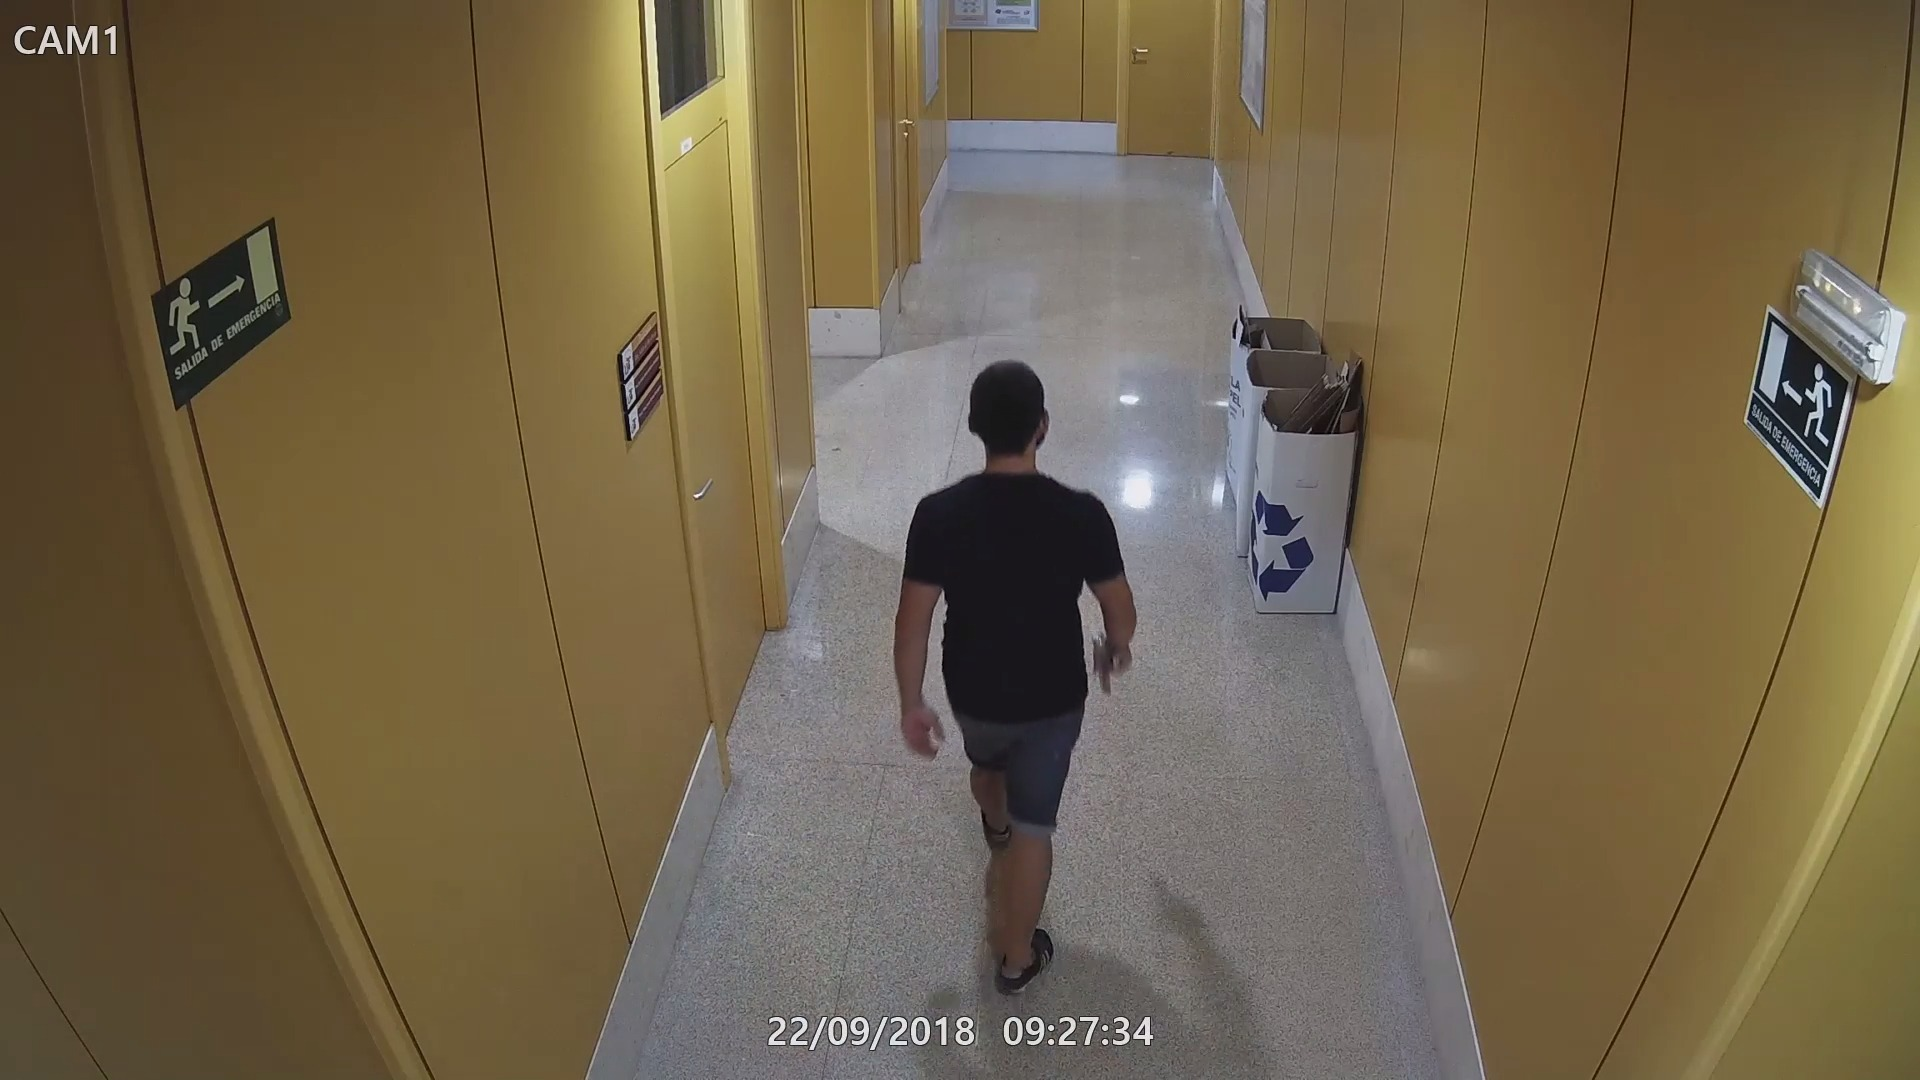Handgun: (1088, 633, 1138, 703)
